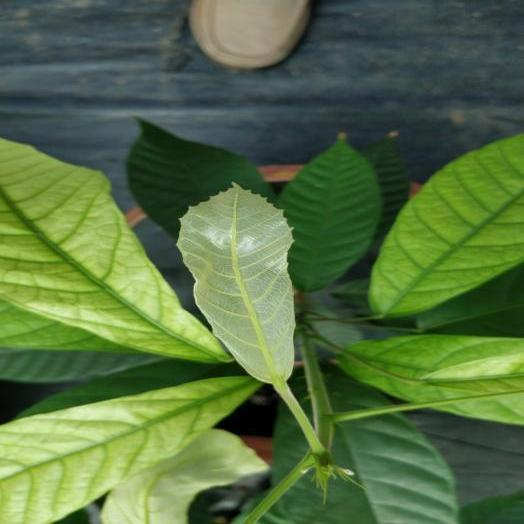Healthy Leaf: (281, 415, 458, 523), (127, 119, 274, 239), (278, 139, 380, 291)
Iron: (0, 139, 228, 361), (0, 376, 256, 523), (369, 134, 523, 316), (177, 185, 294, 382), (338, 336, 523, 424), (102, 429, 265, 523)
